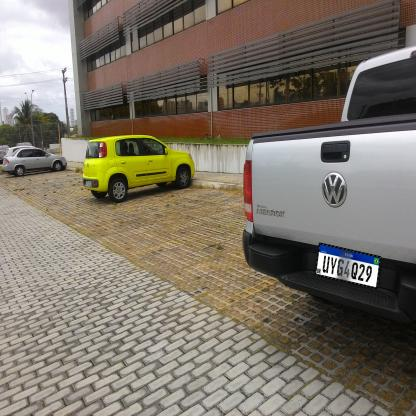PlacaM: (315, 243, 381, 289)
